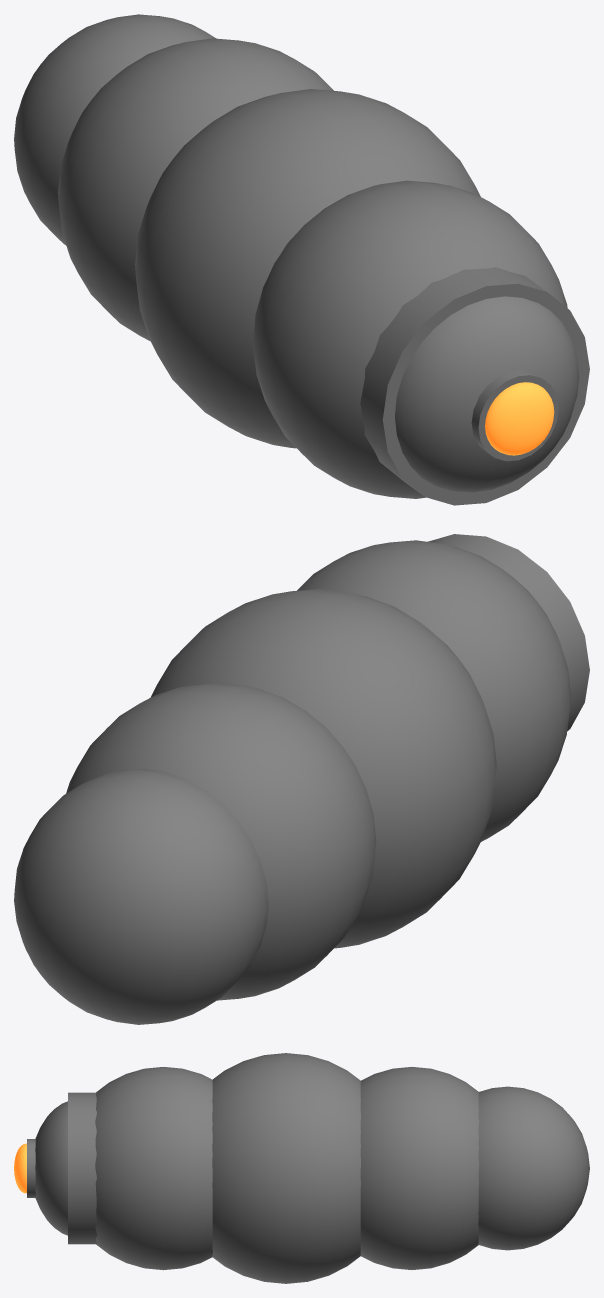
Rendered from Worm.fbx.
The picture shows the model from 3 angles, top to bottom: view 1: azimuth 30°, elevation 25°; view 2: azimuth 150°, elevation 25°; view 3: azimuth 270°, elevation 25°; orthographic projection. The views are drawn at different scales.
Parts seen in each view (by area): view 1: Sphere__1_, Sphere, Sphere__2_, Sphere_1, Sphere__3_, Cylinder__1_, Pupil, Cylinder__2_; view 2: Sphere__1_, Sphere__3_, Sphere__2_, Sphere, Cylinder__1_; view 3: Sphere__1_, Sphere__2_, Sphere, Sphere__3_, Cylinder__1_, Sphere_1, Pupil, Cylinder__2_.
Part boxes in pixels (left/top/right/bottom): Sphere__1_: left=135, top=89, right=480, bottom=448; Sphere: left=253, top=180, right=567, bottom=498; Sphere__2_: left=58, top=38, right=333, bottom=341; Sphere_1: left=395, top=296, right=579, bottom=492; Sphere__3_: left=14, top=14, right=216, bottom=245; Cylinder__1_: left=360, top=267, right=589, bottom=505; Pupil: left=485, top=382, right=554, bottom=455; Cylinder__2_: left=471, top=370, right=558, bottom=461; Sphere__1_: left=150, top=589, right=496, bottom=948; Sphere__3_: left=14, top=769, right=268, bottom=1024; Sphere__2_: left=66, top=682, right=376, bottom=1000; Sphere: left=297, top=540, right=570, bottom=841; Cylinder__1_: left=428, top=534, right=589, bottom=730; Sphere__1_: left=212, top=1053, right=360, bottom=1283; Sphere__2_: left=360, top=1067, right=479, bottom=1269; Sphere: left=95, top=1067, right=212, bottom=1270; Sphere__3_: left=478, top=1086, right=589, bottom=1250; Cylinder__1_: left=68, top=1092, right=97, bottom=1244; Sphere_1: left=35, top=1101, right=67, bottom=1235; Pupil: left=14, top=1143, right=26, bottom=1193; Cylinder__2_: left=27, top=1139, right=35, bottom=1197.
Bounding box in the file's own units: 135 × 135 × 335.
